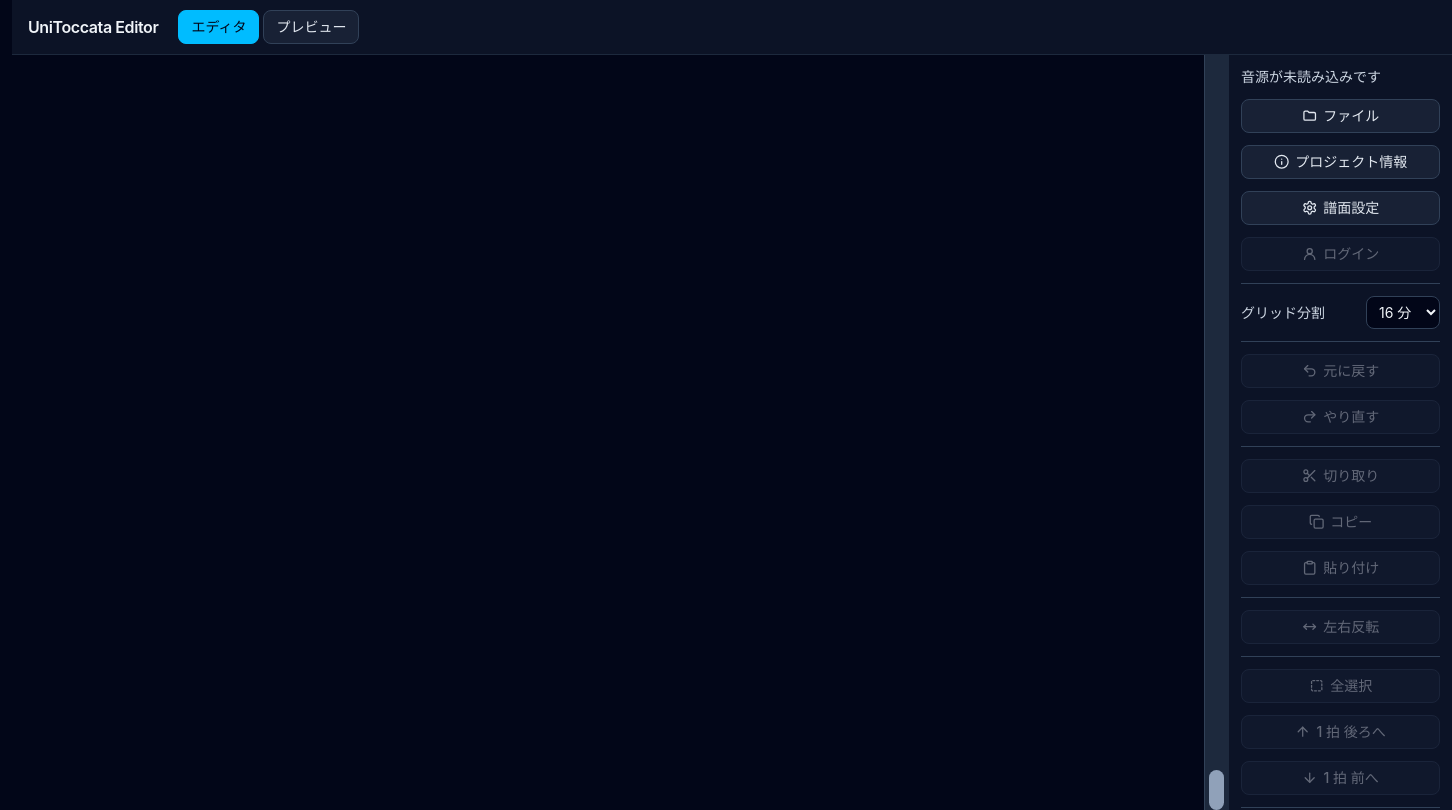
Test: [プレビュー] プレビューの再生 › 「プレビュー」タブの選択 › 正常系 › 再生位置が 1 小節目 1 拍目のとき、「プレビュー」タブを選ぶと、「プレビュー」タブが選択され、プレビューの代替コンテンツに「再生位置 1 小節目 1 拍目」が出て、エディタの画面は出ない
Click the tab "プレビュー": (311, 27) [263,10,359,44]
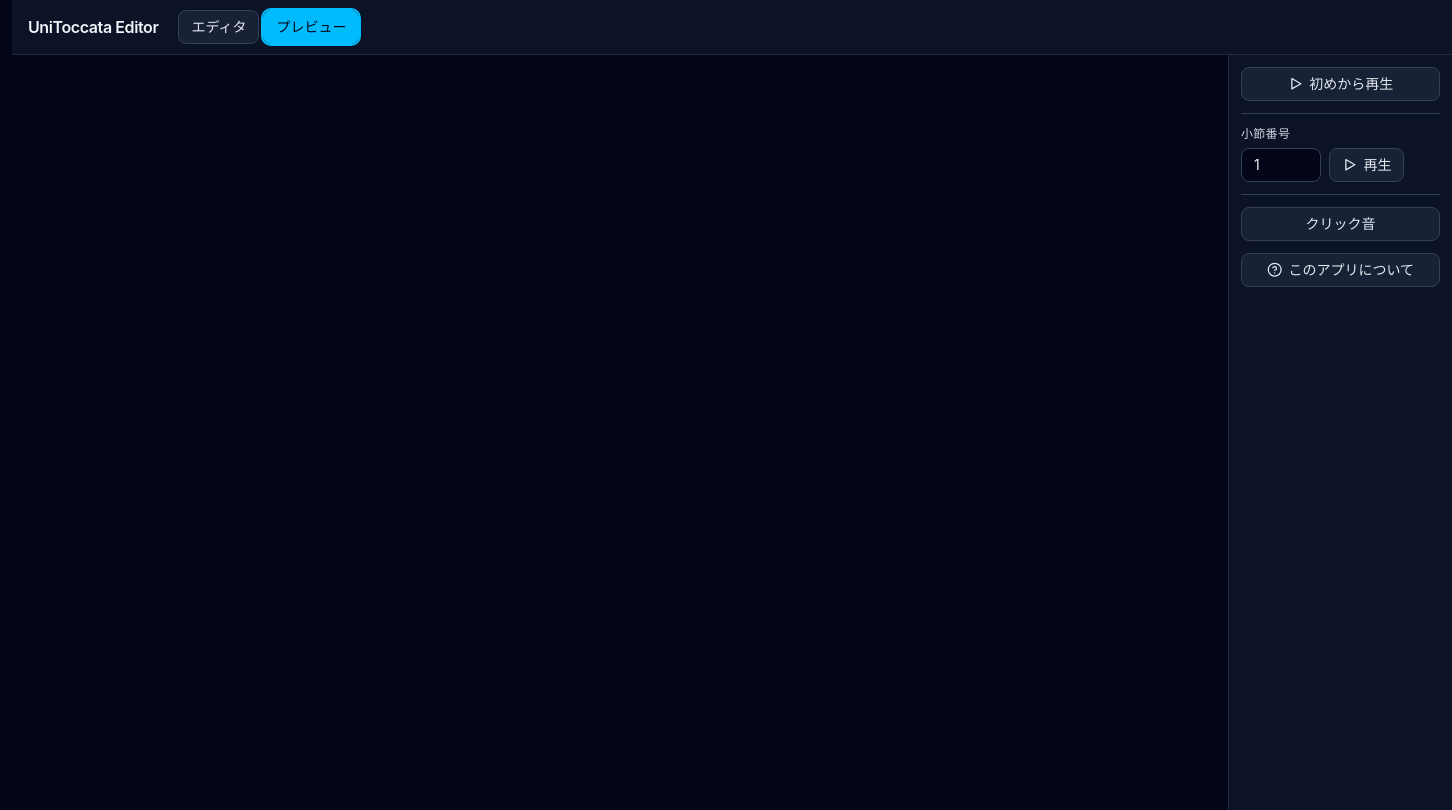
Expected: the drawing labelled "タイムライン" is gone
